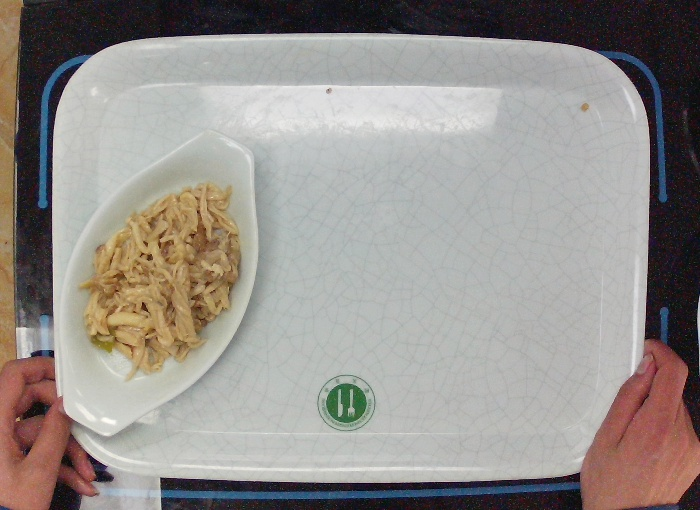JYsf-Yu_Pan: (50, 123, 266, 439)
